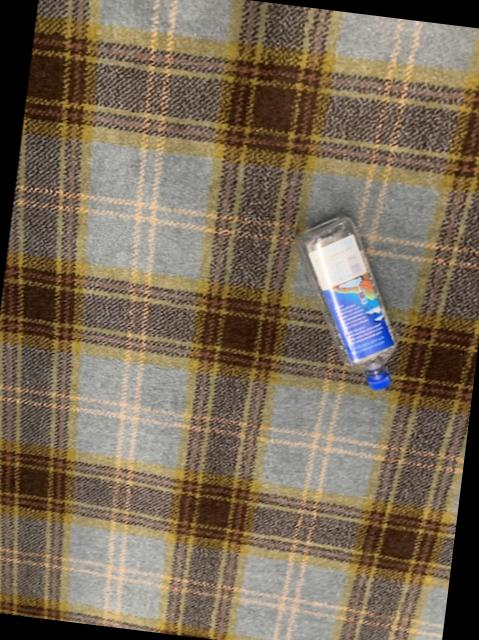plastic: (294, 216, 393, 389)
